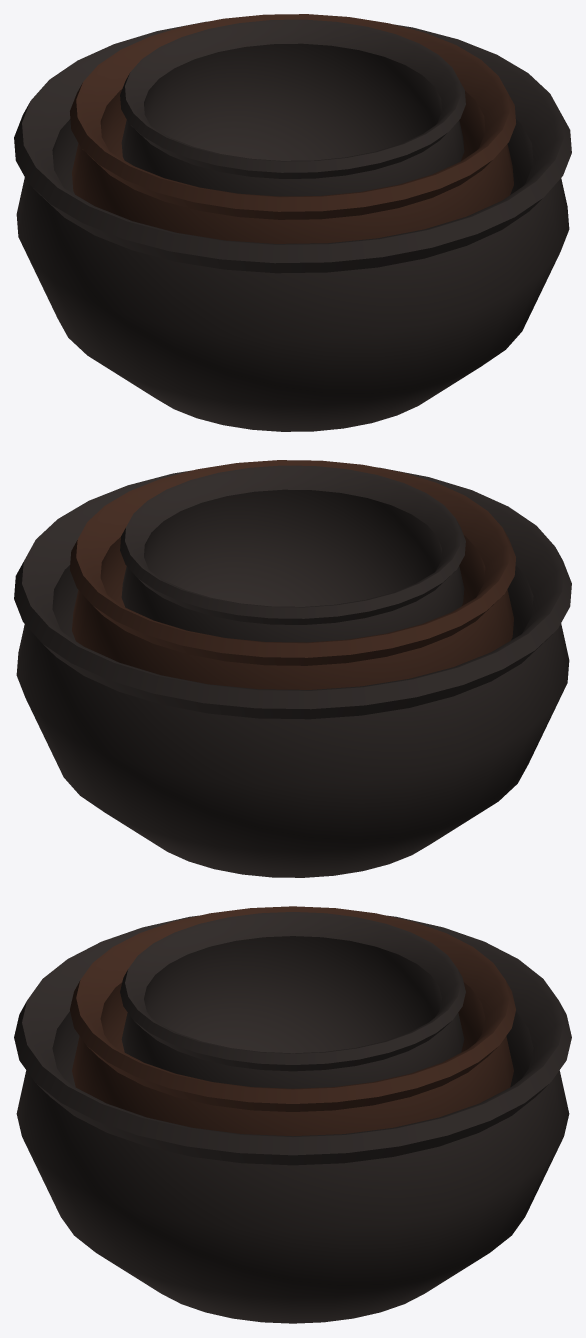
Rendered from panelas_empilhadas.glb.
3 views of the same model, one above another, from view 1: azimuth 30°, elevation 25°; view 2: azimuth 150°, elevation 25°; view 3: azimuth 270°, elevation 25° (orthographic).
Parts seen in each view (by area): view 1: panelas_empilhadas; view 2: panelas_empilhadas; view 3: panelas_empilhadas.
Part boxes in pixels (left/top/right/bottom): panelas_empilhadas: left=14, top=14, right=571, bottom=431; panelas_empilhadas: left=14, top=460, right=571, bottom=877; panelas_empilhadas: left=14, top=906, right=571, bottom=1323.
Size of the model in its own units: 0.212 by 0.1149 by 0.212.
Materials: 1 (1 with a texture image).
